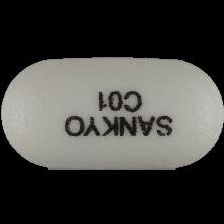68151-4362: (0, 0, 224, 224)
